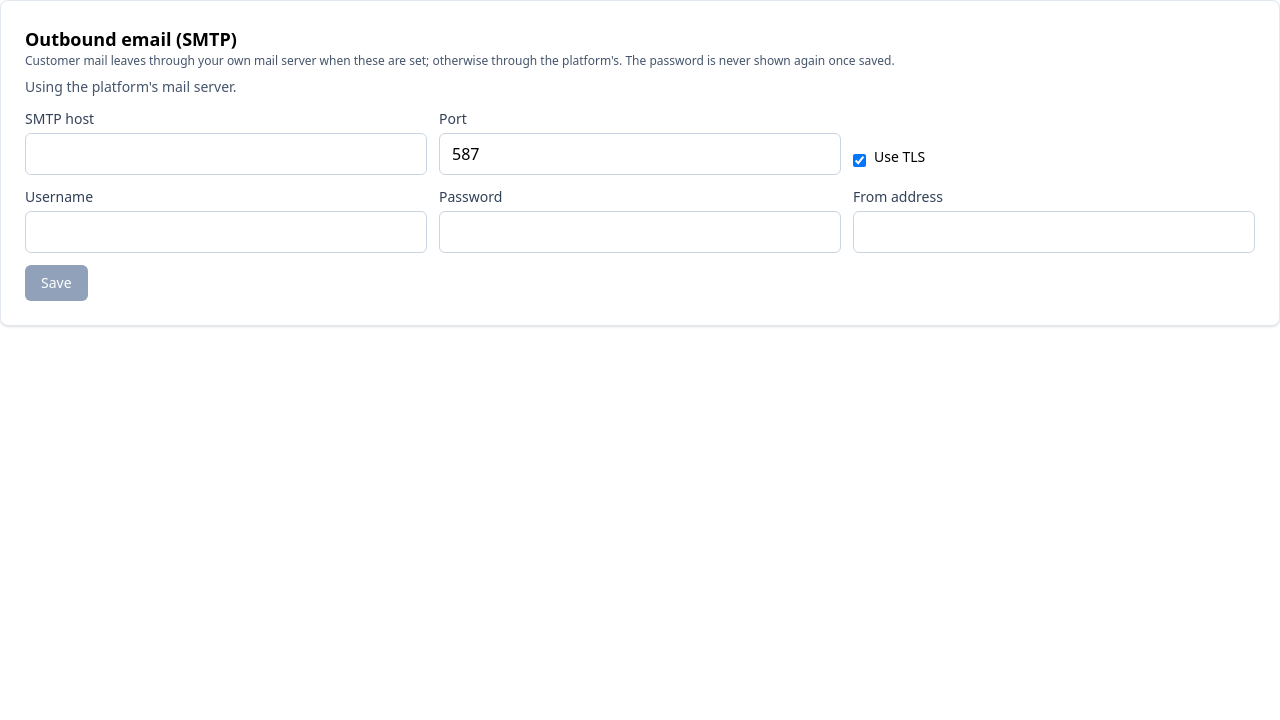
Test case: Email settings and verification (slice 24) › saves through a re-authentication proof, never shows the stored password, and tests the server
This screenshot has width=1280, height=720.
Expected: the text "Using the platform's mail server." is shown, [25, 77, 236, 96]
Type "smtp.example.jo" into the field with test id "smtp-host".
click(226, 154); type("smtp.example.jo")  # box [25, 133, 427, 175]
Replace the text in the field with test id "smtp-port" with "465" at (640, 154), box [439, 133, 841, 175]
Type "hunter2hunter2" into the password field with test id "smtp-password".
click(640, 232); type("hunter2hunter2")  # box [439, 211, 841, 253]
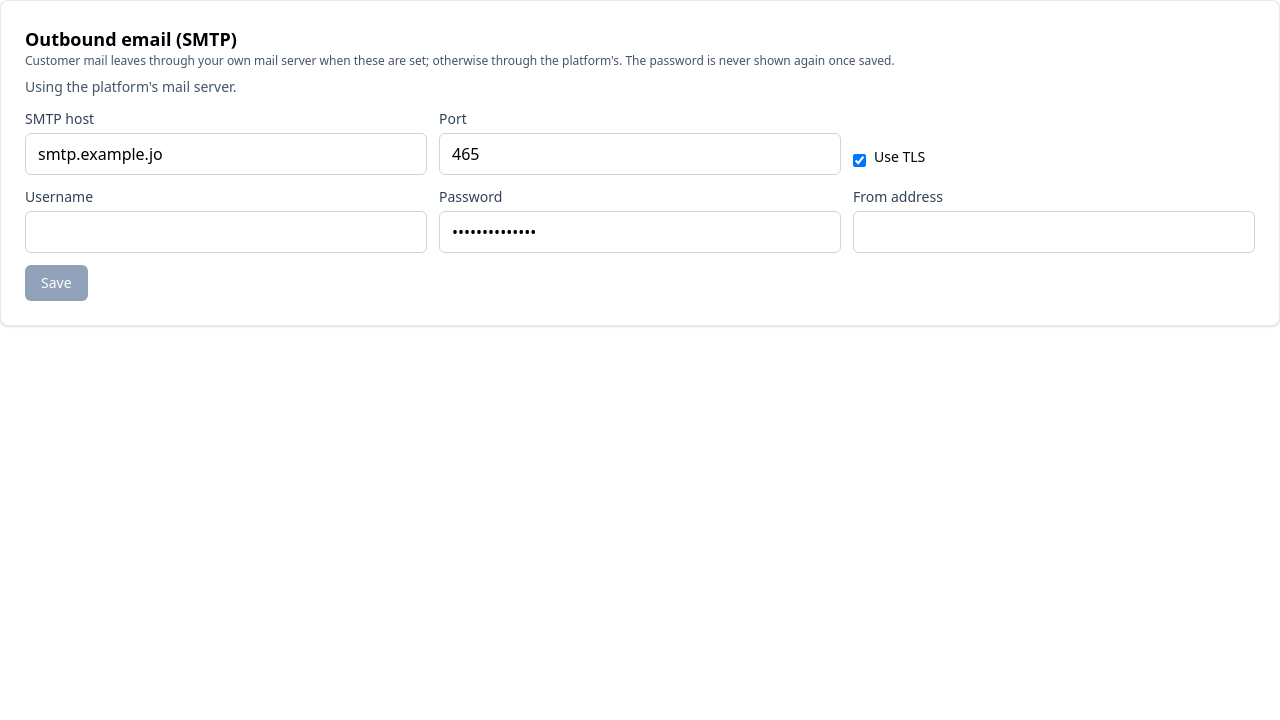
Type "billing@example.jo" into the field with test id "smtp-from".
click(1054, 232); type("billing@example.jo")  # box [853, 211, 1255, 253]
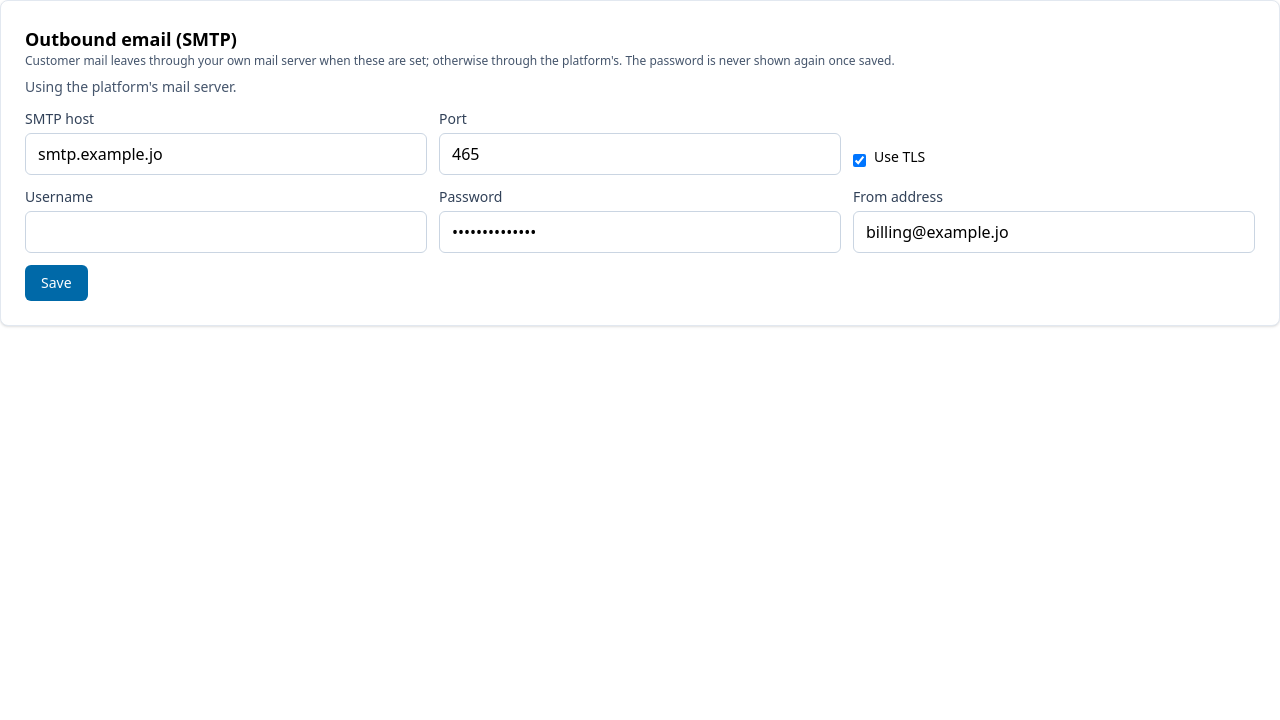
Click the button with test id "smtp-save".
click(56, 283)  # box [25, 265, 88, 301]
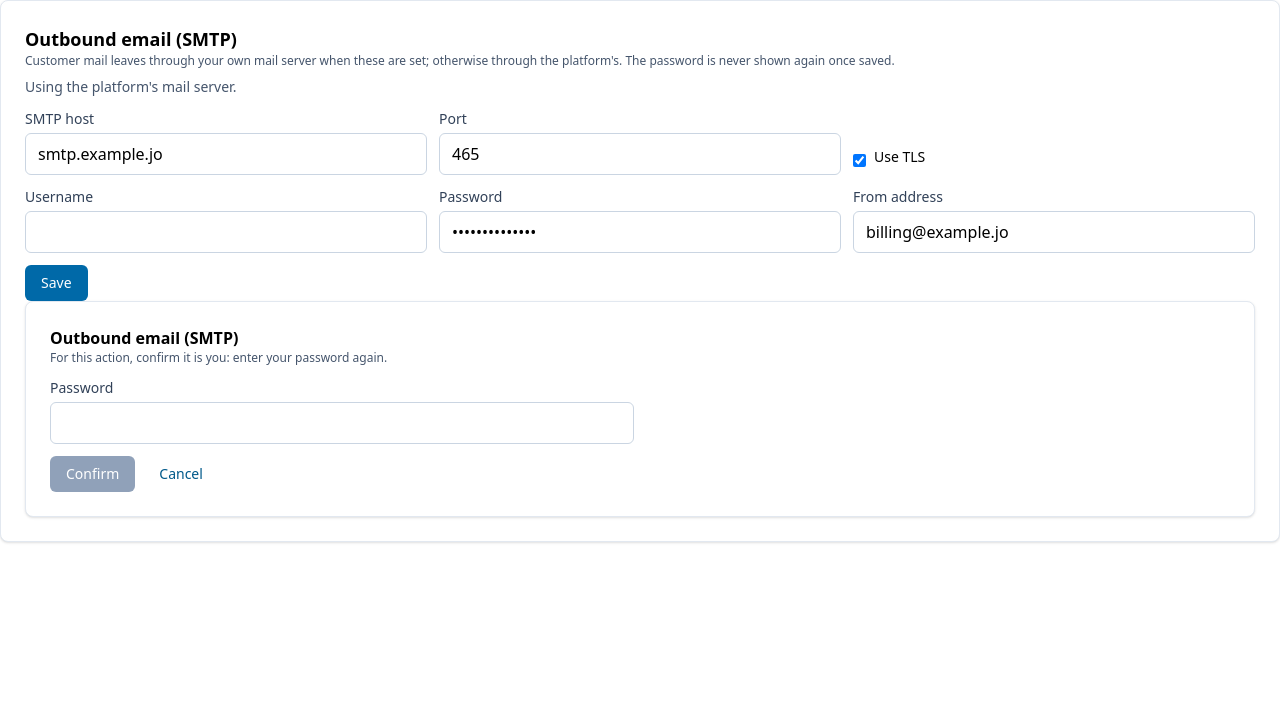
The re-authentication dialog asks for the password and mints the proof.
Type "correct horse battery staple" into the password field with test id "reauth-password".
click(342, 423); type("correct horse battery staple")  # box [50, 402, 634, 444]
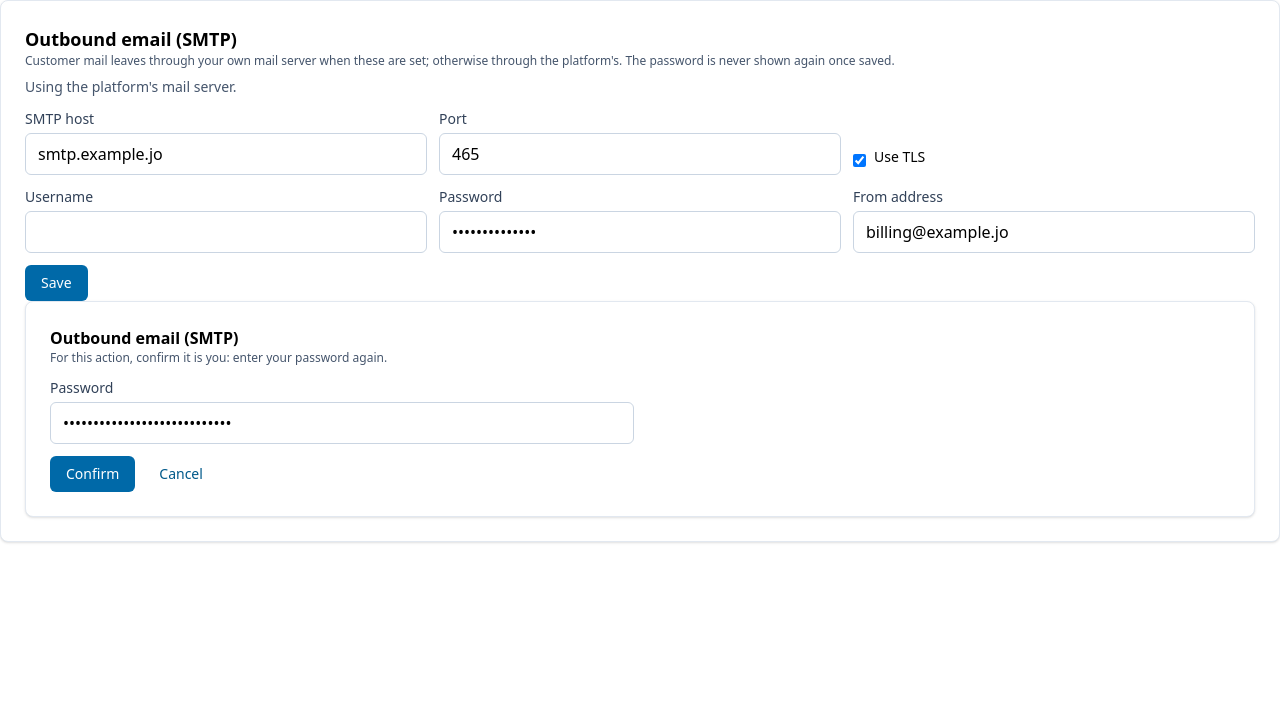
Click the button with test id "reauth-confirm".
click(93, 474)  # box [50, 456, 135, 492]
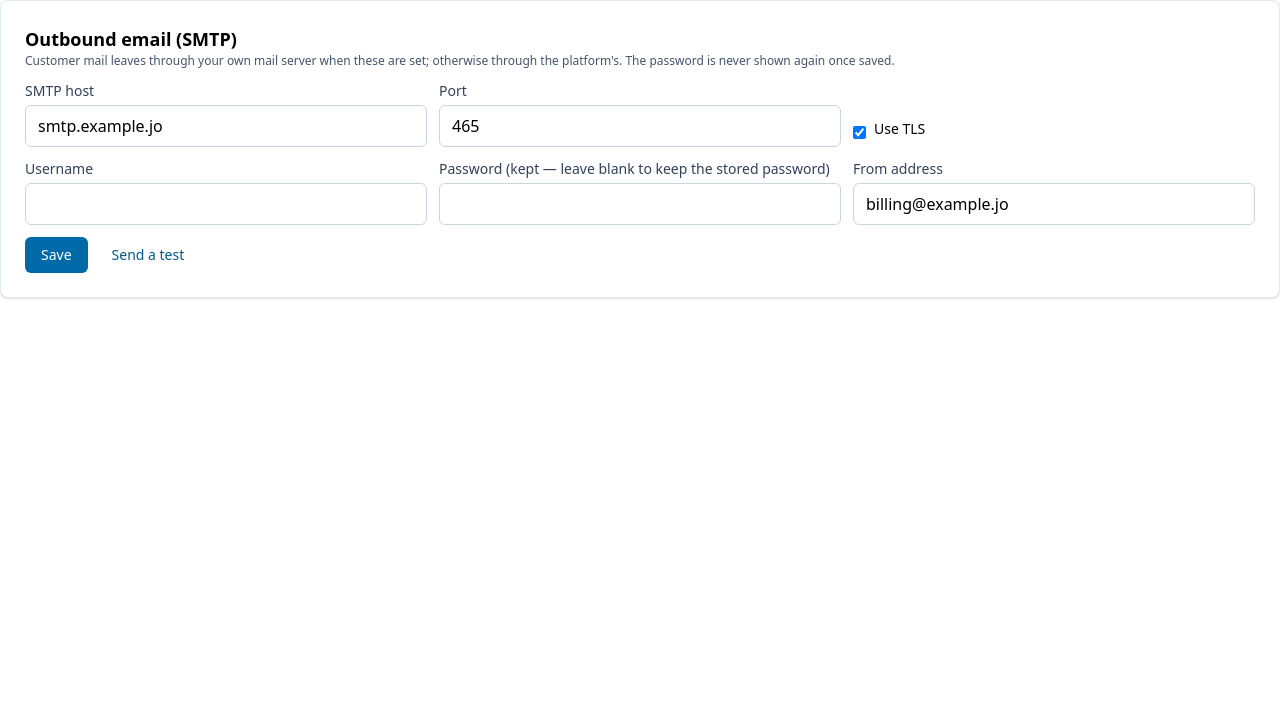
Expected: the password field with test id "smtp-password" is empty, [439, 183, 841, 225]
Expected: the text "Password (kept — leave blank to keep the stored password)" is shown, [439, 159, 841, 179]
Click the button with test id "smtp-test".
click(148, 255)  # box [96, 237, 200, 273]
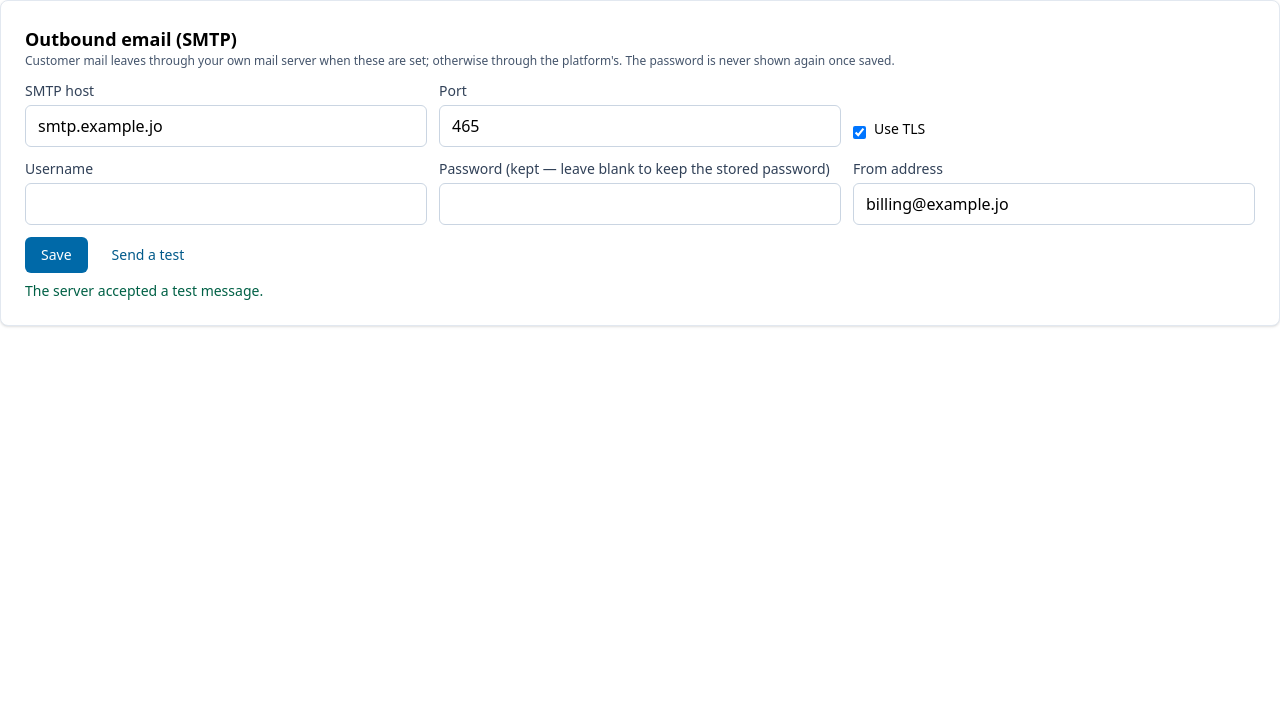
Expected: the text with test id "smtp-test-result" shows "accepted a test message", [25, 281, 263, 300]
